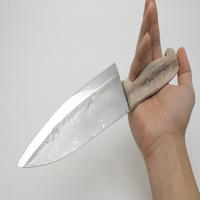knife: (11, 44, 186, 177)
